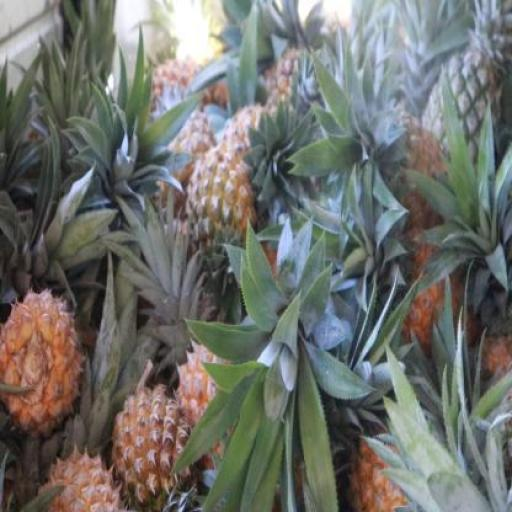------------------------------: (187, 144, 254, 278)
Pineapple - v8 v1: (2, 295, 82, 429), (114, 388, 190, 512)
